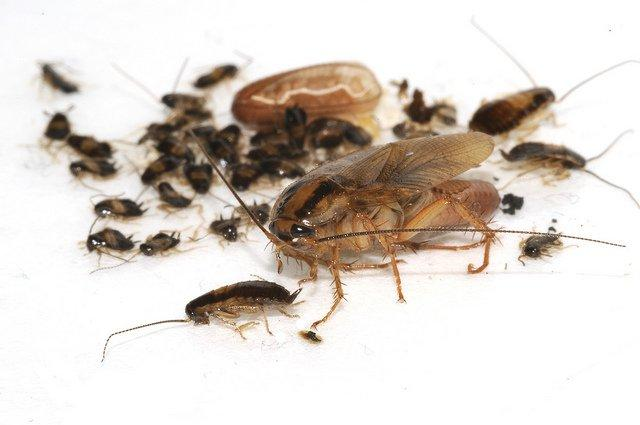cockroach: (178, 280, 305, 342), (500, 136, 602, 190), (469, 86, 564, 142), (516, 225, 576, 266), (82, 224, 136, 266), (136, 152, 184, 186), (88, 193, 146, 221), (70, 154, 121, 185), (254, 154, 308, 182), (153, 178, 193, 214), (38, 61, 80, 95), (192, 58, 238, 89), (138, 228, 182, 260), (66, 135, 118, 161), (183, 160, 215, 200), (202, 136, 242, 166), (206, 215, 240, 248), (154, 137, 197, 163), (41, 109, 72, 143), (162, 90, 209, 109)
